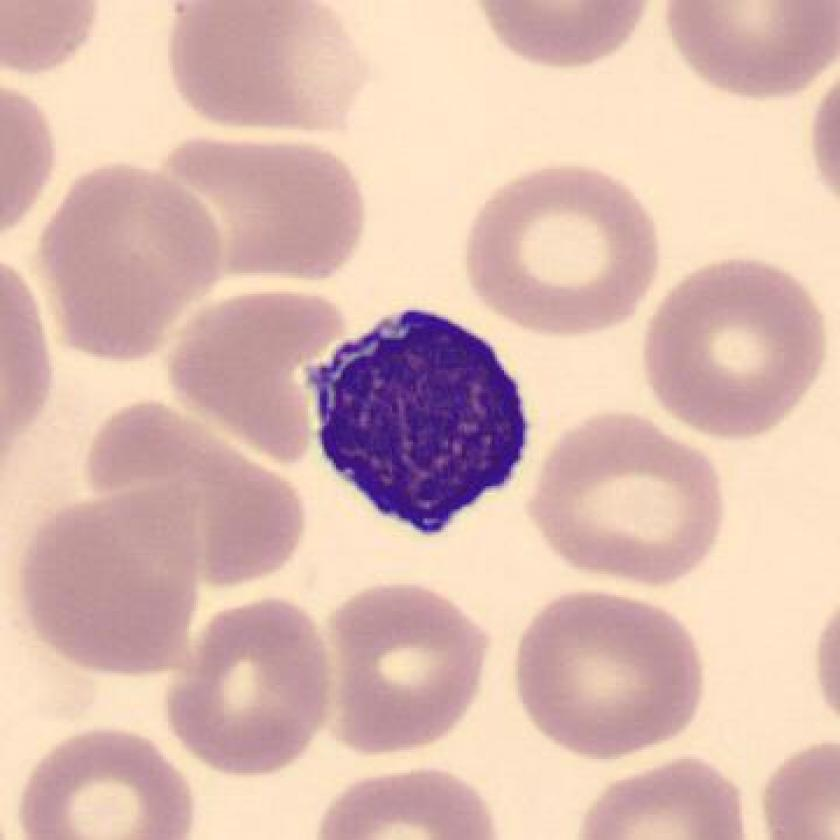lymphocyte: (295, 288, 542, 556)
